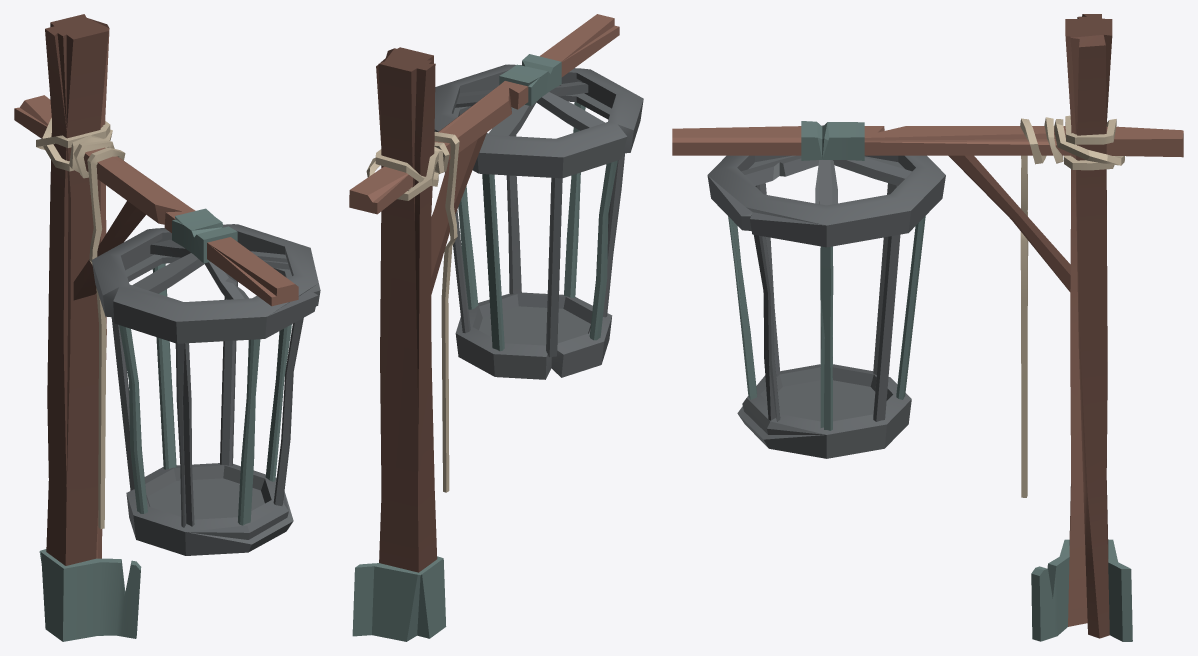
File: SM_Floating_Cage_Medieval.fbx
3 views of the same model, side by side, from view 1: azimuth 30°, elevation 25°; view 2: azimuth 150°, elevation 25°; view 3: azimuth 270°, elevation 25° (orthographic). The views are drawn at different scales.
Visible parts, largest first — view 1: SM_Floating_Cage_Medieval; view 2: SM_Floating_Cage_Medieval; view 3: SM_Floating_Cage_Medieval.
Boxes of the visible parts, x1,y1,x2,y2 form: SM_Floating_Cage_Medieval: [14, 14, 320, 641]; SM_Floating_Cage_Medieval: [349, 14, 643, 641]; SM_Floating_Cage_Medieval: [672, 14, 1183, 641].
Bounding box in the file's own units: 103 × 289 × 224.
